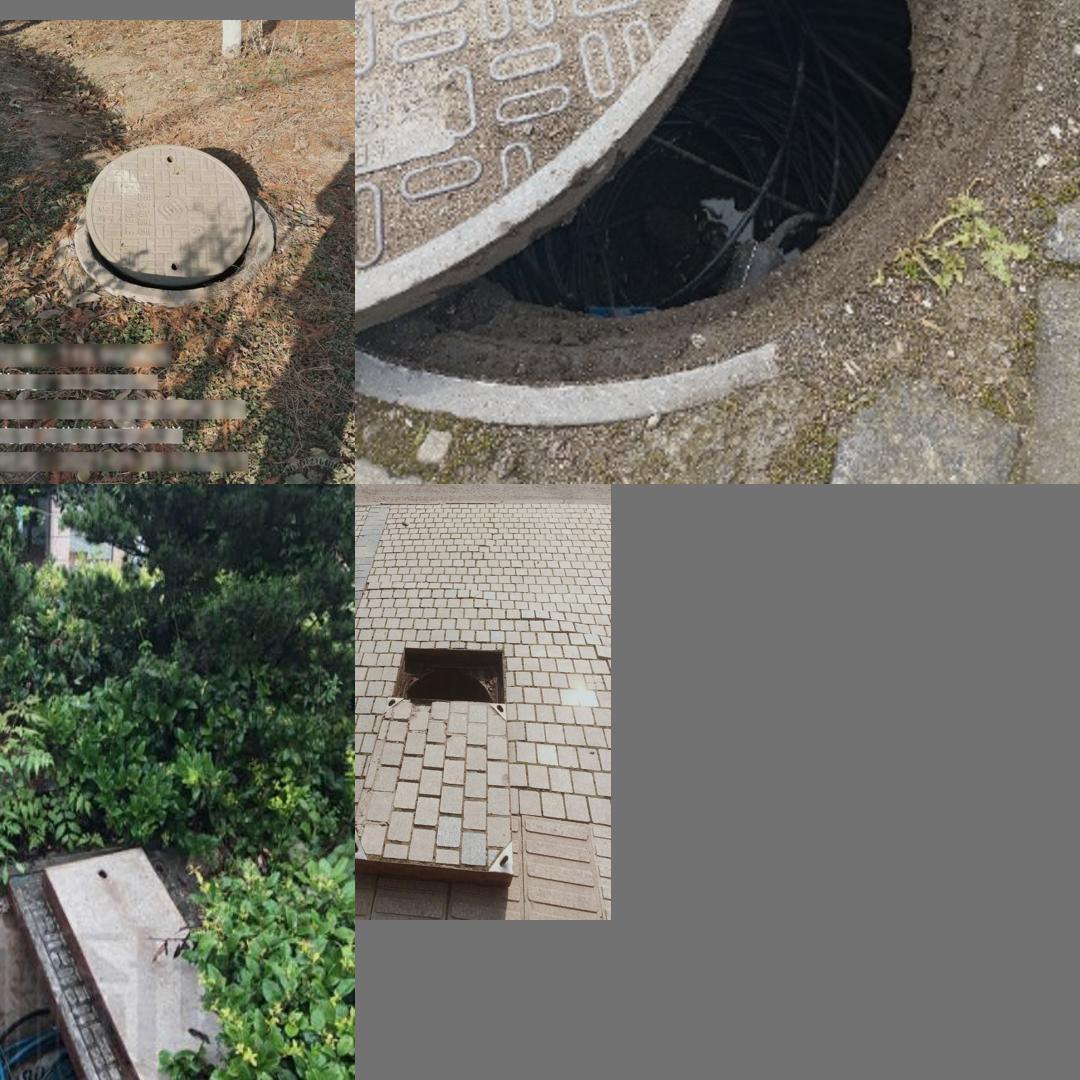uncovered: (355, 0, 1048, 422), (0, 848, 230, 1080), (357, 644, 514, 883), (79, 142, 262, 288)
